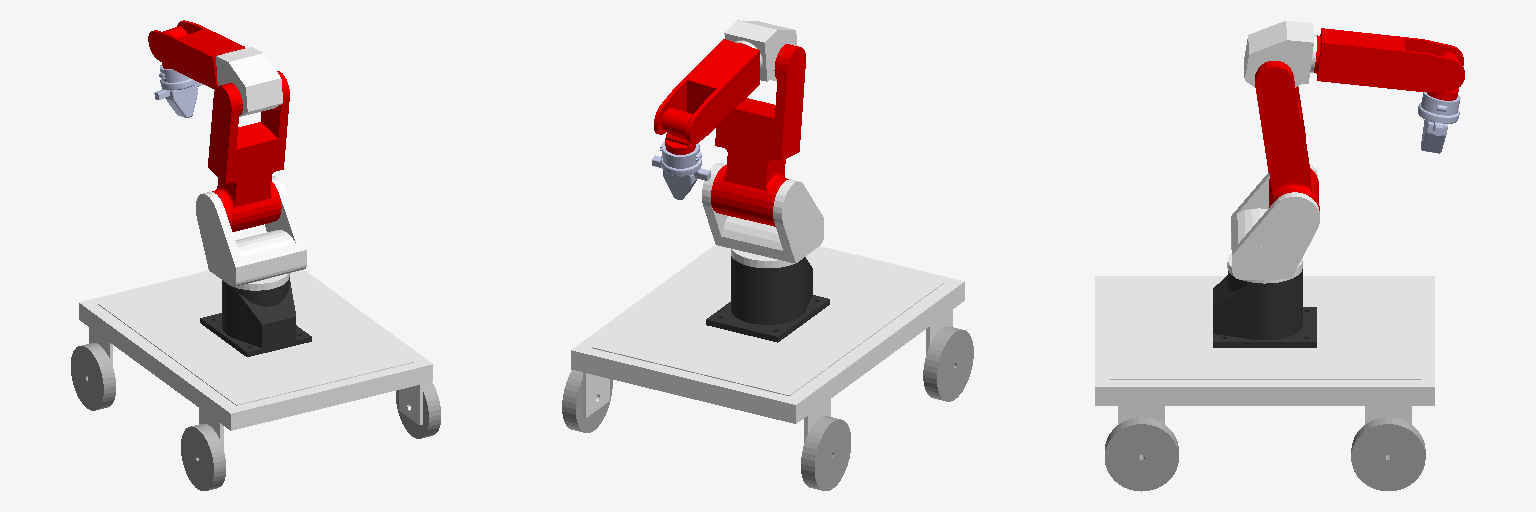
--- Facts derived from the render (not from the file) ---
The picture shows the robot from 3 angles, left to right: view 1: azimuth 30°, elevation 25°; view 2: azimuth 150°, elevation 25°; view 3: azimuth 270°, elevation 25°; orthographic projection.
Model mobot with 15 links and 14 joints (6 revolute, 4 continuous, 2 prismatic, 2 fixed), rooted at dummy_link, posed all joints at 0.
Visible links, largest first — view 1: base_link, link3, link2, link1, link5, link4, front_right, rear_right, rear_left, link7; view 2: base_link, link3, link2, link1, link5, rear_right, front_right, link4, front_left, link7, link6; view 3: base_link, link5, link2, link1, link3, front_left, rear_left, link4, link7, grip1.
Boxes of the visible links, x1,y1,x2,y2 form: base_link: [79, 270, 432, 448]; link3: [208, 71, 289, 231]; link2: [196, 176, 306, 290]; link1: [200, 277, 311, 356]; link5: [148, 20, 244, 89]; link4: [216, 47, 282, 116]; front_right: [71, 343, 115, 410]; rear_right: [181, 424, 225, 490]; rear_left: [396, 382, 440, 438]; link7: [154, 65, 203, 99]; base_link: [571, 244, 964, 442]; link3: [711, 44, 805, 226]; link2: [702, 163, 823, 267]; link1: [706, 256, 829, 342]; link5: [654, 39, 759, 144]; rear_right: [923, 326, 973, 401]; front_right: [801, 416, 850, 490]; link4: [724, 20, 796, 81]; front_left: [562, 370, 612, 432]; link7: [652, 141, 710, 180]; link6: [662, 108, 695, 154]; base_link: [1095, 276, 1434, 424]; link5: [1314, 28, 1464, 91]; link2: [1227, 163, 1319, 283]; link1: [1213, 269, 1316, 347]; link3: [1255, 61, 1319, 210]; front_left: [1351, 417, 1425, 490]; rear_left: [1105, 417, 1178, 491]; link4: [1244, 21, 1316, 87]; link7: [1418, 92, 1460, 135]; grip1: [1421, 120, 1447, 153].
Size in the robot's own frame: 0.7012 by 0.8838 by 1.05 metres.
14 mesh visuals loaded from 14 distinct referenced files (14 binary STL).

URDF robot description (mobot):
<?xml version="1.0" encoding="utf-8"?>
<!-- This URDF was automatically created by SolidWorks to URDF Exporter! Originally created by Stephen Brawner ([email redacted]) 
     Commit Version: 1.6.0-4-g7f85cfe  Build Version: 1.6.7995.38578
     For more information, please see http://wiki.ros.org/sw_urdf_exporter -->
<robot
  name="mobot">
    <link name="dummy_link">
  </link>
  <joint name="dummy_joint" type="fixed">
    <parent
      link="dummy_link" />
    <child
      link="base_link" />
    <origin
      xyz="0 0 0"
      rpy="0 0 0" />
    <axis
      xyz="0 0 0.009" />      
  </joint>
  <link
    name="base_link">
    <inertial>
      <origin
        xyz="1.67161504763206E-05 -9.96929707160518E-18 0.224538707556981"
        rpy="0 0 0" />
      <mass
        value="26.692910205457" />
      <inertia
        ixx="1.71189734613994"
        ixy="-2.40913169363712E-16"
        ixz="-6.33991383606451E-17"
        iyy="1.27431160321352"
        iyz="-3.16232789743585E-16"
        izz="2.92969870819416" />
    </inertial>
    <visual>
      <origin
        xyz="0 0 0"
        rpy="0 0 0" />
      <geometry>
        <mesh
          filename="package://mobot/meshes/base_link.STL" />
      </geometry>
      <material
        name="">
        <color
          rgba="0.992156862745098 0.996078431372549 1 1" />
      </material>
    </visual>
    <collision>
      <origin
        xyz="0 0 0"
        rpy="0 0 0" />
      <geometry>
        <mesh
          filename="package://mobot/meshes/base_link.STL" />
      </geometry>
    </collision>
  </link>
  <link
    name="front_left">
    <inertial>
      <origin
        xyz="-5.55111512312578E-17 0 -0.01905"
        rpy="0 0 0" />
      <mass
        value="0.094013226235365" />
      <inertia
        ixx="0.00198270843988776"
        ixy="1.03019182797916E-19"
        ixz="-3.08867976331008E-20"
        iyy="0.00198270843988776"
        iyz="8.10409449351113E-21"
        izz="0.00373796598088299" />
    </inertial>
    <visual>
      <origin
        xyz="0 0 0"
        rpy="0 0 0" />
      <geometry>
        <mesh
          filename="package://mobot/meshes/front_left.STL" />
      </geometry>
      <material
        name="">
        <color
          rgba="0.741176470588235 0.733333333333333 0.725490196078431 1" />
      </material>
    </visual>
    <collision>
      <origin
        xyz="0 0 0"
        rpy="0 0 0" />
      <geometry>
        <mesh
          filename="package://mobot/meshes/front_left.STL" />
      </geometry>
    </collision>
  </link>
  <joint
    name="frontleftwheel"
    type="continuous">
    <origin
      xyz="0.350600000000001 0.294399999999999 0.0827000000000001"
      rpy="1.5707963267949 0 1.57079632679489" />
    <parent
      link="base_link" />
    <child
      link="front_left" />
    <axis
      xyz="0 0 1" />
  </joint>
  <link
    name="front_right">
    <inertial>
      <origin
        xyz="2.77555756156289E-16 0 0.0190500000000001"
        rpy="0 0 0" />
      <mass
        value="0.0940132262353651" />
      <inertia
        ixx="0.00198270843988776"
        ixy="4.35918888859529E-20"
        ixz="-1.99449680904772E-20"
        iyy="0.00198270843988776"
        iyz="4.76045832029339E-22"
        izz="0.003737965980883" />
    </inertial>
    <visual>
      <origin
        xyz="0 0 0"
        rpy="0 0 0" />
      <geometry>
        <mesh
          filename="package://mobot/meshes/front_right.STL" />
      </geometry>
      <material
        name="">
        <color
          rgba="0.741176470588235 0.733333333333333 0.725490196078431 1" />
      </material>
    </visual>
    <collision>
      <origin
        xyz="0 0 0"
        rpy="0 0 0" />
      <geometry>
        <mesh
          filename="package://mobot/meshes/front_right.STL" />
      </geometry>
    </collision>
  </link>
  <joint
    name="frontrightjoint"
    type="continuous">
    <origin
      xyz="-0.350599999999999 0.294400000000001 0.0827000000000001"
      rpy="1.5707963267949 0 1.57079632679489" />
    <parent
      link="base_link" />
    <child
      link="front_right" />
    <axis
      xyz="0 0 1" />
  </joint>
  <link
    name="rear_left">
    <inertial>
      <origin
        xyz="0 0 -0.0190500000000001"
        rpy="0 0 0" />
      <mass
        value="0.094013226235365" />
      <inertia
        ixx="0.00198270843988776"
        ixy="-1.624081534321E-19"
        ixz="-6.08288500262666E-20"
        iyy="0.00198270843988776"
        iyz="-1.18373963231426E-20"
        izz="0.00373796598088299" />
    </inertial>
    <visual>
      <origin
        xyz="0 0 0"
        rpy="0 0 0" />
      <geometry>
        <mesh
          filename="package://mobot/meshes/rear_left.STL" />
      </geometry>
      <material
        name="">
        <color
          rgba="0.741176470588235 0.733333333333333 0.725490196078431 1" />
      </material>
    </visual>
    <collision>
      <origin
        xyz="0 0 0"
        rpy="0 0 0" />
      <geometry>
        <mesh
          filename="package://mobot/meshes/rear_left.STL" />
      </geometry>
    </collision>
  </link>
  <joint
    name="rearleftwheel"
    type="continuous">
    <origin
      xyz="0.350599999999999 -0.294400000000001 0.0827"
      rpy="1.5707963267949 0 1.57079632679489" />
    <parent
      link="base_link" />
    <child
      link="rear_left" />
    <axis
      xyz="0 0 1" />
  </joint>
  <link
    name="rear_right">
    <inertial>
      <origin
        xyz="0 2.77555756156289E-17 0.01905"
        rpy="0 0 0" />
      <mass
        value="0.0940132262353651" />
      <inertia
        ixx="0.00198270843988776"
        ixy="-1.08818392973721E-39"
        ixz="2.72206371498453E-20"
        iyy="0.00198270843988776"
        iyz="-2.47506712013436E-35"
        izz="0.003737965980883" />
    </inertial>
    <visual>
      <origin
        xyz="0 0 0"
        rpy="0 0 0" />
      <geometry>
        <mesh
          filename="package://mobot/meshes/rear_right.STL" />
      </geometry>
      <material
        name="">
        <color
          rgba="0.741176470588235 0.733333333333333 0.725490196078431 1" />
      </material>
    </visual>
    <collision>
      <origin
        xyz="0 0 0"
        rpy="0 0 0" />
      <geometry>
        <mesh
          filename="package://mobot/meshes/rear_right.STL" />
      </geometry>
    </collision>
  </link>
  <joint
    name="rightwheeljoint"
    type="continuous">
    <origin
      xyz="-0.350600000000001 -0.294399999999999 0.0827"
      rpy="1.5707963267949 0 1.57079632679489" />
    <parent
      link="base_link" />
    <child
      link="rear_right" />
    <axis
      xyz="0 0 1" />
  </joint>
  <link
    name="link1">
    <inertial>
      <origin
        xyz="-7.42810143639123E-08 -0.00978879657713761 0.0750910905801014"
        rpy="0 0 0" />
      <mass
        value="2.07582206243551" />
      <inertia
        ixx="0.0279246936838049"
        ixy="-4.73074519396789E-09"
        ixz="2.57852028125316E-08"
        iyy="0.0230662204658974"
        iyz="-0.000715650397578893"
        izz="0.0271604411837049" />
    </inertial>
    <visual>
      <origin
        xyz="0 0 0"
        rpy="0 0 0" />
      <geometry>
        <mesh
          filename="package://mobot/meshes/link1.STL" />
      </geometry>
      <material
        name="">
        <color
          rgba="0.250980392156863 0.250980392156863 0.250980392156863 1" />
      </material>
    </visual>
    <collision>
      <origin
        xyz="0 0 0"
        rpy="0 0 0" />
      <geometry>
        <mesh
          filename="package://mobot/meshes/link1.STL" />
      </geometry>
    </collision>
  </link>
  <joint
    name="basem"
    type="fixed">
    <origin
      xyz="0 0 0.255"
      rpy="0 0 0" />
    <parent
      link="base_link" />
    <child
      link="link1" />
    <axis
      xyz="0 0 0" />
  </joint>
  <link
    name="link2">
    <inertial>
      <origin
        xyz="-0.00011281 0.0068507 0.067233"
        rpy="0 0 0" />
      <mass
        value="2.1882" />
      <inertia
        ixx="0.02144"
        ixy="-0.00018712"
        ixz="6.9176E-05"
        iyy="0.032759"
        iyz="-0.0041883"
        izz="0.030615" />
    </inertial>
    <visual>
      <origin
        xyz="0 0 0"
        rpy="0 0 0" />
      <geometry>
        <mesh
          filename="package://mobot/meshes/link2.STL" />
      </geometry>
      <material
        name="">
        <color
          rgba="1 1 1 1" />
      </material>
    </visual>
    <collision>
      <origin
        xyz="0 0 0"
        rpy="0 0 0" />
      <geometry>
        <mesh
          filename="package://mobot/meshes/link2.STL" />
      </geometry>
    </collision>
  </link>
  <joint
    name="link_2"
    type="revolute">
    <origin
      xyz="0 0 0.175"
      rpy="0 0 0" />
    <parent
      link="link1" />
    <child
      link="link2" />
    <axis
      xyz="0 0 -1" />
    <limit
      lower="0"
      upper="6.284"
      effort="200"
      velocity="3" />
  </joint>
  <link
    name="link3">
    <inertial>
      <origin
        xyz="0.018802 -0.13534 -3.7488E-11"
        rpy="0 0 0" />
      <mass
        value="2.2998" />
      <inertia
        ixx="0.087203"
        ixy="0.0093725"
        ixz="1.3582E-10"
        iyy="0.02104"
        iyz="2.6985E-11"
        izz="0.077075" />
    </inertial>
    <visual>
      <origin
        xyz="0 0 0"
        rpy="0 0 0" />
      <geometry>
        <mesh
          filename="package://mobot/meshes/link3.STL" />
      </geometry>
      <material
        name="">
        <color
          rgba="1 0 0 1" />
      </material>
    </visual>
    <collision>
      <origin
        xyz="0 0 0"
        rpy="0 0 0" />
      <geometry>
        <mesh
          filename="package://mobot/meshes/link3.STL" />
      </geometry>
    </collision>
  </link>
  <joint
    name="link_3"
    type="revolute">
    <origin
      xyz="-0.00118191583802444 0.0715077705397586 0.153769579636443"
      rpy="-1.5707963267949 0 -1.55426933655184" />
    <parent
      link="link2" />
    <child
      link="link3" />
    <axis
      xyz="0 0 -1" />
    <limit
      lower="-1.57"
      upper="1.57"
      effort="200"
      velocity="3" />
  </joint>
  <link
    name="link4">
    <inertial>
      <origin
        xyz="0.0024388 0.0002859 -0.0555"
        rpy="0 0 0" />
      <mass
        value="1.0805" />
      <inertia
        ixx="0.0047842"
        ixy="-0.00077742"
        ixz="6.9796E-19"
        iyy="0.0060143"
        iyz="3.0827E-19"
        izz="0.0065924" />
    </inertial>
    <visual>
      <origin
        xyz="0 0 0"
        rpy="0 0 0" />
      <geometry>
        <mesh
          filename="package://mobot/meshes/link4.STL" />
      </geometry>
      <material
        name="">
        <color
          rgba="1 1 1 1" />
      </material>
    </visual>
    <collision>
      <origin
        xyz="0 0 0"
        rpy="0 0 0" />
      <geometry>
        <mesh
          filename="package://mobot/meshes/link4.STL" />
      </geometry>
    </collision>
  </link>
  <joint
    name="link_4"
    type="revolute">
    <origin
      xyz="0.0362174071193058 -0.388931402299904 0.0555"
      rpy="0 0 3.14159265358979" />
    <parent
      link="link3" />
    <child
      link="link4" />
    <axis
      xyz="0 0 -1" />
    <limit
      lower="-3.142"
      upper="0"
      effort="200"
      velocity="3" />
  </joint>
  <link
    name="link5">
    <inertial>
      <origin
        xyz="-1.7734E-07 -2.3788E-06 0.12318"
        rpy="0 0 0" />
      <mass
        value="1.2744" />
      <inertia
        ixx="0.016048"
        ixy="3.1141E-05"
        ixz="3.387E-08"
        iyy="0.016464"
        iyz="4.5427E-07"
        izz="0.0039447" />
    </inertial>
    <visual>
      <origin
        xyz="0 0 0"
        rpy="0 0 0" />
      <geometry>
        <mesh
          filename="package://mobot/meshes/link5.STL" />
      </geometry>
      <material
        name="">
        <color
          rgba="1 0 0 1" />
      </material>
    </visual>
    <collision>
      <origin
        xyz="0 0 0"
        rpy="0 0 0" />
      <geometry>
        <mesh
          filename="package://mobot/meshes/link5.STL" />
      </geometry>
    </collision>
  </link>
  <joint
    name="link_5"
    type="revolute">
    <origin
      xyz="0.0865584905966275 0.00839949040900234 -0.0555000000000001"
      rpy="-0.609567887315726 1.57079631189374 -0.734408128398046" />
    <parent
      link="link4" />
    <child
      link="link5" />
    <axis
      xyz="0 0 1" />
    <limit
      lower="0"
      upper="3.142"
      effort="200"
      velocity="3" />
  </joint>
  <link
    name="link6">
    <inertial>
      <origin
        xyz="0.0044365 -0.024333 2.0817E-17"
        rpy="0 0 0" />
      <mass
        value="0.32079" />
      <inertia
        ixx="0.00039297"
        ixy="3.4564E-05"
        ixz="6.6069E-20"
        iyy="0.00020969"
        iyz="-2.465E-21"
        izz="0.00034491" />
    </inertial>
    <visual>
      <origin
        xyz="0 0 0"
        rpy="0 0 0" />
      <geometry>
        <mesh
          filename="package://mobot/meshes/link6.STL" />
      </geometry>
      <material
        name="">
        <color
          rgba="1 0 0 1" />
      </material>
    </visual>
    <collision>
      <origin
        xyz="0 0 0"
        rpy="0 0 0" />
      <geometry>
        <mesh
          filename="package://mobot/meshes/link6.STL" />
      </geometry>
    </collision>
  </link>
  <joint
    name="link_6"
    type="revolute">
    <origin
      xyz="0.000351610247741422 0.00471609605795009 0.31645149221301"
      rpy="-1.57079632679489 1.45486631386844 -1.64521400874154" />
    <parent
      link="link5" />
    <child
      link="link6" />
    <axis
      xyz="0 0 -1" />
    <limit
      lower="0"
      upper="3.142"
      effort="200"
      velocity="2" />
  </joint>
  <link
    name="link7">
    <inertial>
      <origin
        xyz="1.7361E-10 2.1498E-10 0.016528"
        rpy="0 0 0" />
      <mass
        value="0.21549" />
      <inertia
        ixx="0.00026778"
        ixy="-3.6347E-05"
        ixz="-2.8754E-13"
        iyy="0.0003499"
        iyz="-5.1247E-13"
        izz="0.0005275" />
    </inertial>
    <visual>
      <origin
        xyz="0 0 0"
        rpy="0 0 0" />
      <geometry>
        <mesh
          filename="package://mobot/meshes/link7.STL" />
      </geometry>
      <material
        name="">
        <color
          rgba="0.79216 0.81961 0.93333 1" />
      </material>
    </visual>
    <collision>
      <origin
        xyz="0 0 0"
        rpy="0 0 0" />
      <geometry>
        <mesh
          filename="package://mobot/meshes/link7.STL" />
      </geometry>
    </collision>
  </link>
  <joint
    name="link_7"
    type="revolute">
    <origin
      xyz="0.0163331090754775 -0.0895822161514052 0"
      rpy="-1.5707963267949 1.17924892649585 -2.96124825710572" />
    <parent
      link="link6" />
    <child
      link="link7" />
    <axis
      xyz="0 0 -1" />
    <limit
      lower="0"
      upper="3.142"
      effort="200"
      velocity="3" />
  </joint>
  <link
    name="grip1">
    <inertial>
      <origin
        xyz="-0.020933 -0.021676 -0.025435"
        rpy="0 0 0" />
      <mass
        value="0.11653" />
      <inertia
        ixx="7.0551E-05"
        ixy="2.9858E-06"
        ixz="-5.1003E-06"
        iyy="5.7216E-05"
        iyz="2.3868E-05"
        izz="6.7543E-05" />
    </inertial>
    <visual>
      <origin
        xyz="0 0 0"
        rpy="0 0 0" />
      <geometry>
        <mesh
          filename="package://mobot/meshes/grip1.STL" />
      </geometry>
      <material
        name="">
        <color
          rgba="0.79216 0.81961 0.93333 1" />
      </material>
    </visual>
    <collision>
      <origin
        xyz="0 0 0"
        rpy="0 0 0" />
      <geometry>
        <mesh
          filename="package://mobot/meshes/grip1.STL" />
      </geometry>
    </collision>
  </link>
  <joint
    name="grip_1"
    type="prismatic">
    <origin
      xyz="-0.0221949059505385 0.0183230993801066 0.076196530879624"
      rpy="-1.09815881528803 -0.188016054643132 1.83781443689534" />
    <parent
      link="link7" />
    <child
      link="grip1" />
    <axis
      xyz="-0.0934551409169919 0.437339841126079 0.894427190999917" />
    <limit
      lower="-0.03"
      upper="0"
      effort="200"
      velocity="3" />
  </joint>
  <link
    name="grip2">
    <inertial>
      <origin
        xyz="0.021231 -0.021384 -0.025435"
        rpy="0 0 0" />
      <mass
        value="0.11653" />
      <inertia
        ixx="7.0631E-05"
        ixy="-2.8001E-06"
        ixz="4.7694E-06"
        iyy="5.7136E-05"
        iyz="2.3936E-05"
        izz="6.7543E-05" />
    </inertial>
    <visual>
      <origin
        xyz="0 0 0"
        rpy="0 0 0" />
      <geometry>
        <mesh
          filename="package://mobot/meshes/grip2.STL" />
      </geometry>
      <material
        name="">
        <color
          rgba="0.79216 0.81961 0.93333 1" />
      </material>
    </visual>
    <collision>
      <origin
        xyz="0 0 0"
        rpy="0 0 0" />
      <geometry>
        <mesh
          filename="package://mobot/meshes/grip2.STL" />
      </geometry>
    </collision>
  </link>
  <joint
    name="grip_2"
    type="prismatic">
    <origin
      xyz="0.00447390105476647 0.0284312157739759 0.0761965308796241"
      rpy="-1.09931642219313 0.175685860893411 -1.11962753486987" />
    <parent
      link="link7" />
    <child
      link="grip2" />
    <axis
      xyz="-0.0873917410068469 -0.43859170489624 -0.894427190999917" />
    <limit
      lower="0"
      upper="0.03"
      effort="200"
      velocity="3" />
  </joint>

  <transmission name="link_1_trans">
    <type>transmission_interface/SimpleTransmission</type>
    <joint name="link_2">
    <hardwareInterface>hardware_interface/EffortJointInterface</hardwareInterface>
    </joint>
    <actuator name="link_1_motor">
    <hardwareInterface>hardware_interface/EffortJointInterface</hardwareInterface>
    <mechanicalReduction>1</mechanicalReduction>
    </actuator>
 </transmission>

 <transmission name="link_2_trans">
    <type>transmission_interface/SimpleTransmission</type>
    <joint name="link_3">
    <hardwareInterface>hardware_interface/EffortJointInterface</hardwareInterface>
    </joint>
    <actuator name="link_2_motor">
    <hardwareInterface>hardware_interface/EffortJointInterface</hardwareInterface>
    <mechanicalReduction>1</mechanicalReduction>
    </actuator>
 </transmission>

 <transmission name="link_3_trans">
    <type>transmission_interface/SimpleTransmission</type>
    <joint name="link_4">
    <hardwareInterface>hardware_interface/EffortJointInterface</hardwareInterface>
    </joint>
    <actuator name="link_3_motor">
    <hardwareInterface>hardware_interface/EffortJointInterface</hardwareInterface>
    <mechanicalReduction>1</mechanicalReduction>
    </actuator>
 </transmission>

 <transmission name="link_4_trans">
    <type>transmission_interface/SimpleTransmission</type>
    <joint name="link_5">
    <hardwareInterface>hardware_interface/EffortJointInterface</hardwareInterface>
    </joint>
    <actuator name="link_4_motor">
    <hardwareInterface>hardware_interface/EffortJointInterface</hardwareInterface>
    <mechanicalReduction>1</mechanicalReduction>
    </actuator>
 </transmission>

 <transmission name="link_5_trans">
    <type>transmission_interface/SimpleTransmission</type>
    <joint name="link_6">
    <hardwareInterface>hardware_interface/EffortJointInterface</hardwareInterface>
    </joint>
    <actuator name="link_5_motor">
    <hardwareInterface>hardware_interface/EffortJointInterface</hardwareInterface>
    <mechanicalReduction>1</mechanicalReduction>
    </actuator>
 </transmission>

 <transmission name="link_6_trans">
    <type>transmission_interface/SimpleTransmission</type>
    <joint name="link_7">
    <hardwareInterface>hardware_interface/EffortJointInterface</hardwareInterface>
    </joint>
    <actuator name="link_6_motor">
    <hardwareInterface>hardware_interface/EffortJointInterface</hardwareInterface>
    <mechanicalReduction>1</mechanicalReduction>
    </actuator>
 </transmission>

 <transmission name="link_7_trans">
    <type>transmission_interface/SimpleTransmission</type>
    <joint name="grip_1">
    <hardwareInterface>hardware_interface/EffortJointInterface</hardwareInterface>
    </joint>
    <actuator name="link_7_motor">
    <hardwareInterface>hardware_interface/EffortJointInterface</hardwareInterface>
    <mechanicalReduction>1</mechanicalReduction>
    </actuator>
 </transmission>

 <transmission name="link_8_trans">
    <type>transmission_interface/SimpleTransmission</type>
    <joint name="grip_2">
    <hardwareInterface>hardware_interface/EffortJointInterface</hardwareInterface>
    </joint>
    <actuator name="link_8_motor">
    <hardwareInterface>hardware_interface/EffortJointInterface</hardwareInterface>
    <mechanicalReduction>1</mechanicalReduction>
    </actuator>
 </transmission>
 <gazebo>
  <plugin name="gazebo_ros_control" filename="libgazebo_ros_control.so">
    <robotNamespace>/mobot</robotNamespace>
    <controlPeriod>0.001</controlPeriod>
    <legacyModeNS>false</legacyModeNS>
    </plugin>
  </gazebo>
<gazebo>
  <plugin name="skid_steer_drive_controller" filename="libgazebo_ros_skid_steer_drive.so">
    <updateRate>100.0</updateRate>
    <robotNamespace>/mobot</robotNamespace>
    <leftFrontJoint>frontleftwheel</leftFrontJoint>
    <rightFrontJoint>frontrightjoint</rightFrontJoint>
    <leftRearJoint>rearleftwheel</leftRearJoint>
    <rightRearJoint>rightwheeljoint</rightRearJoint>
    <wheelSeparation>0.7</wheelSeparation>
    <wheelDiameter>0.177</wheelDiameter>
    <robotBaseFrame>base_link</robotBaseFrame>
    <torque>50</torque>

    <topicName>cmd_vel</topicName>
    <odometryTopic>odom</odometryTopic>
    <odometryFrame>odom</odometryFrame>
    <broadcastTF>true</broadcastTF>
    
    <commandTopic>cmd_vel</commandTopic>
    <topic_name_twist>cmd_vel</topic_name_twist>
    <topic_name_joint>joint</topic_name_joint>

    <covariance_x>0.0001</covariance_x>
    <covariance_y>0.0001</covariance_y>
    <covariance_z>0.01</covariance_z>

  </plugin>
</gazebo>
  <!--######################################################################-->
  <gazebo reference="frontleftwheel">
  <mu1 value="1.0"/>
  <mu2 value="1.0"/>
  <kp value="1000000.0" />
  <kd value="1.0" />
  <fdir1 value="1 0 0"/>
  <max_vel>1</max_vel>

  </gazebo>

  <gazebo reference="frontrightjoint">
  <mu1 value="1.0"/>
  <mu2 value="1.0"/>
  <kp value="1000000.0" />
  <kd value="1.0" />
  <fdir1 value="1 0 0"/>
  <max_vel>1</max_vel>

  </gazebo>

  <gazebo reference="rearleftwheel">
  <mu1 value="1.0"/>
  <mu2 value="1.0"/>
  <kp value="1000000.0" />
  <kd value="1.0" />
  <fdir1 value="1 0 0"/>
  <max_vel>1</max_vel>

  </gazebo>

  <gazebo reference="rightwheeljoint">
  <mu1 value="1.0"/>
  <mu2 value="1.0"/>
  <kp value="1000000.0" />
  <kd value="1.0" />
  <fdir1 value="1 0 0"/>
  <max_vel>1</max_vel>
  </gazebo>

 <transmission name="left_motor" type="SimpleTransmission">
  <type>transmission_interface/SimpleTransmission</type>
  <actuator name="left_motor">
   <hardwareInterface>hardware_interface/VelocityJointInterface</hardwareInterface>
   <mechanicalReduction>1</mechanicalReduction>
  </actuator>
  <joint name="frontleftwheel">
   <hardwareInterface>hardware_interface/VelocityJointInterface</hardwareInterface>
  </joint>
</transmission>

<transmission name="right_motor" type="SimpleTransmission">
  <type>transmission_interface/SimpleTransmission</type>
  <actuator name="right_motor">
   <hardwareInterface>hardware_interface/VelocityJointInterface</hardwareInterface>
   <mechanicalReduction>1</mechanicalReduction>
  </actuator>
  <joint name="frontrightjoint">
   <hardwareInterface>hardware_interface/VelocityJointInterface</hardwareInterface>
  </joint>
</transmission>

<transmission name="rear_lmotor" type="SimpleTransmission">
  <type>transmission_interface/SimpleTransmission</type>
  <actuator name="rear_lmotor">
   <hardwareInterface>hardware_interface/VelocityJointInterface</hardwareInterface>
   <mechanicalReduction>1</mechanicalReduction>
  </actuator>
  <joint name="rearleftwheel">
   <hardwareInterface>hardware_interface/VelocityJointInterface</hardwareInterface>
  </joint>
</transmission>

<transmission name="rear_rmotor" type="SimpleTransmission">
  <type>transmission_interface/SimpleTransmission</type>
  <actuator name="rear_rmotor">
   <hardwareInterface>hardware_interface/VelocityJointInterface</hardwareInterface>
   <mechanicalReduction>1</mechanicalReduction>
  </actuator>
  <joint name="rightwheeljoint">
   <hardwareInterface>hardware_interface/VelocityJointInterface</hardwareInterface>
  </joint>
</transmission>

 <gazebo>
    <plugin name="control"  filename="libgazebo_ros_control.so">
      <robotNamespace>/mobot</robotNamespace> 
    </plugin>
 </gazebo>
 <gazebo reference="link_2">
     <selfCollide>true</selfCollide>
 </gazebo>

 <gazebo reference="link_3">
     <selfCollide>true</selfCollide>
 </gazebo>

 <gazebo reference="link_4">
     <selfCollide>true</selfCollide>
 </gazebo>

 <gazebo reference="link_5">
     <selfCollide>true</selfCollide>
 </gazebo>

 <gazebo reference="link_6">
     <selfCollide>true</selfCollide>
 </gazebo>

 <gazebo reference="link_7">
     <selfCollide>true</selfCollide>
 </gazebo>

 <gazebo reference="grip_1">
     <selfCollide>true</selfCollide>
 </gazebo>

 <gazebo reference="grip_2">
     <selfCollide>true</selfCollide>
 </gazebo>

</robot>
